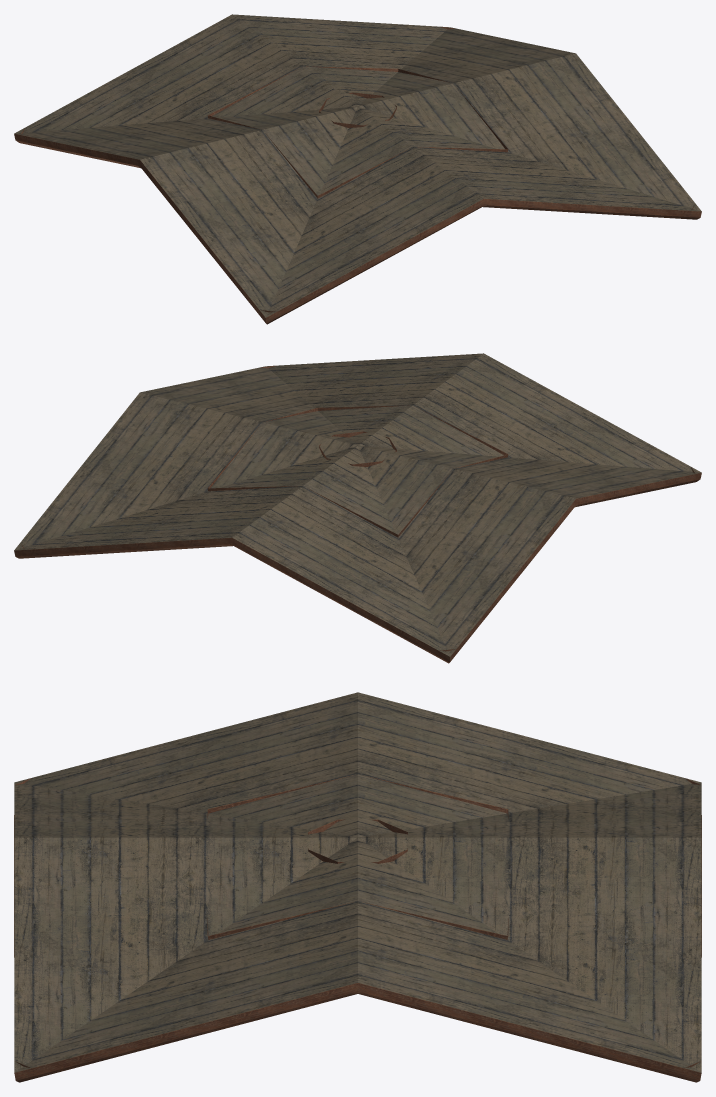
File: Prop_CeilingWoodenPlank.fbx
3 views of the same model, one above another, from view 1: azimuth 30°, elevation 25°; view 2: azimuth 150°, elevation 25°; view 3: azimuth 270°, elevation 25° (orthographic). The views are drawn at different scales.
Parts seen in each view (by area): view 1: WoodenCeiling, WoodenPlank; view 2: WoodenCeiling, WoodenPlank; view 3: WoodenCeiling, WoodenPlank.
Boxes of the visible parts, x1=… form: WoodenCeiling: x1=14, y1=14, x2=701, y2=317; WoodenPlank: x1=14, y1=26, x2=701, y2=324; WoodenCeiling: x1=14, y1=353, x2=701, y2=656; WoodenPlank: x1=14, y1=365, x2=701, y2=663; WoodenCeiling: x1=14, y1=692, x2=701, y2=1072; WoodenPlank: x1=14, y1=775, x2=701, y2=1082.
Bounding box in the file's own units: 315 × 51.61 × 315.
